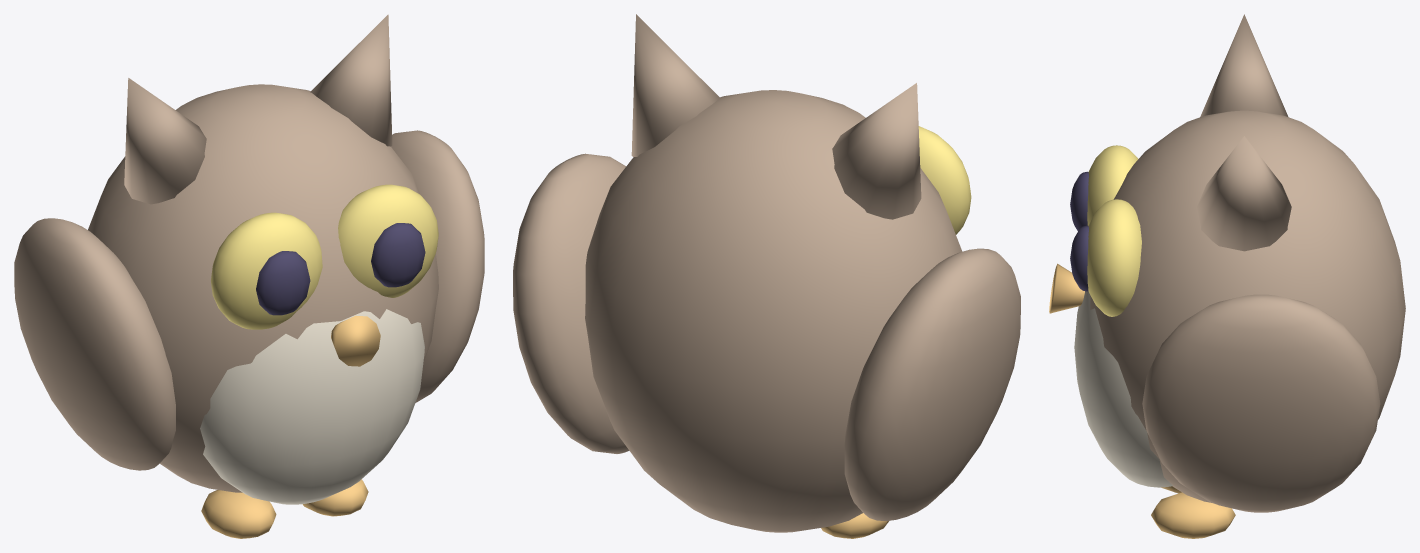
File: owl.fbx
3 renders of one model, left to right at view 1: azimuth 30°, elevation 25°; view 2: azimuth 150°, elevation 25°; view 3: azimuth 270°, elevation 25°, orthographic. The views are drawn at different scales.
Visible parts, largest first — view 1: Owl; view 2: Owl; view 3: Owl.
Part boxes in pixels (x1,y1,x2,y2): Owl: (14, 14, 484, 538); Owl: (513, 14, 1020, 538); Owl: (1049, 14, 1405, 538).
Bounding box in the file's own units: 0.5418 × 0.5684 × 0.4197.
